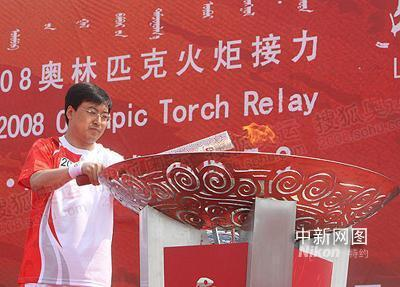fire: (235, 107, 275, 146)
